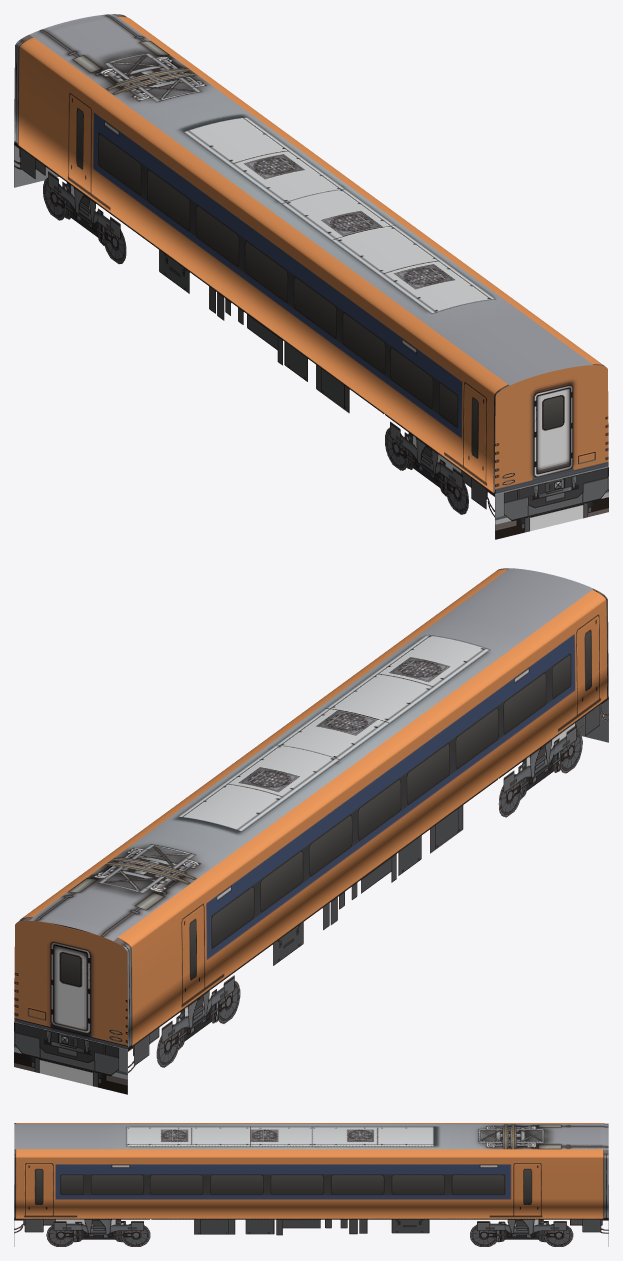
Rendered from car2.glb.
3 renders of one model, top to bottom at view 1: azimuth 30°, elevation 25°; view 2: azimuth 150°, elevation 25°; view 3: azimuth 270°, elevation 25°, orthographic. The views are drawn at different scales.
Parts seen in each view (by area): view 1: kintetsu-22000-car2; view 2: kintetsu-22000-car2; view 3: kintetsu-22000-car2.
Boxes of the visible parts, left/top/right/bottom form: kintetsu-22000-car2: left=14, top=14, right=608, bottom=539; kintetsu-22000-car2: left=14, top=568, right=608, bottom=1094; kintetsu-22000-car2: left=14, top=1123, right=608, bottom=1246.
Bounding box in the file's own units: 2.8 × 3.63 × 20.52.
8 materials, 7 textured.
